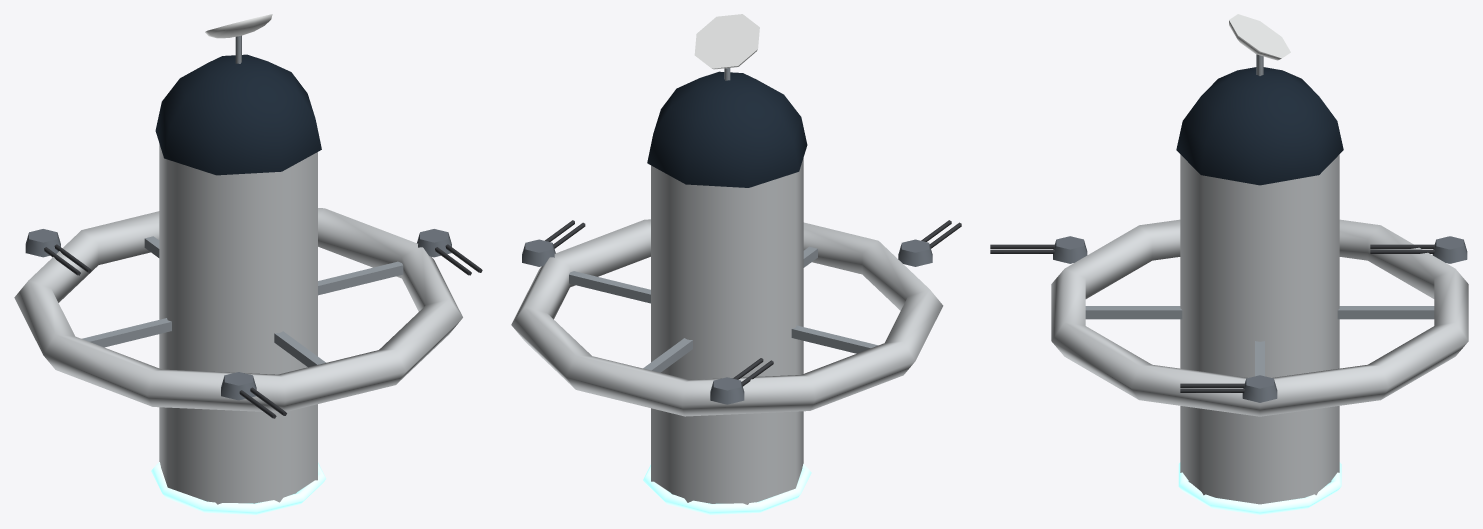
File: space_orbital_command_center_t2_lod1.glb
3 renders of one model, left to right at view 1: azimuth 30°, elevation 25°; view 2: azimuth 150°, elevation 25°; view 3: azimuth 270°, elevation 25°, orthographic. The views are drawn at different scales.
Visible parts, largest first — view 1: body, ring, turret_1, turret_2, turret_0, antenna_0; view 2: body, ring, antenna_0, turret_2, turret_1, turret_0; view 3: body, ring, antenna_0, turret_0, turret_1, turret_2.
Part boxes in pixels (<box>): body: <box>151,54,326,514</box>; ring: <box>14,208,462,412</box>; turret_1: <box>221,372,286,418</box>; turret_2: <box>25,229,91,275</box>; turret_0: <box>417,229,482,275</box>; antenna_0: <box>205,14,272,63</box>; body: <box>643,71,811,514</box>; ring: <box>511,219,943,416</box>; antenna_0: <box>694,14,759,80</box>; turret_2: <box>710,358,773,404</box>; turret_1: <box>898,220,961,266</box>; turret_0: <box>522,220,585,266</box>; body: <box>1176,67,1343,514</box>; ring: <box>1051,219,1468,416</box>; antenna_0: <box>1229,14,1290,75</box>; turret_0: <box>1180,375,1277,402</box>; turret_1: <box>990,236,1087,263</box>; turret_2: <box>1370,236,1467,263</box>.
Bounding box in the file's own units: 23 × 25.49 × 23.99.
